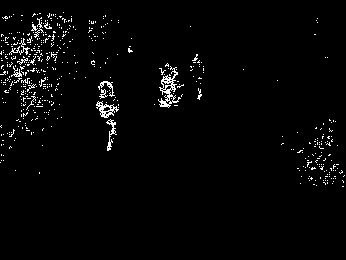person: (92, 80, 120, 154)
